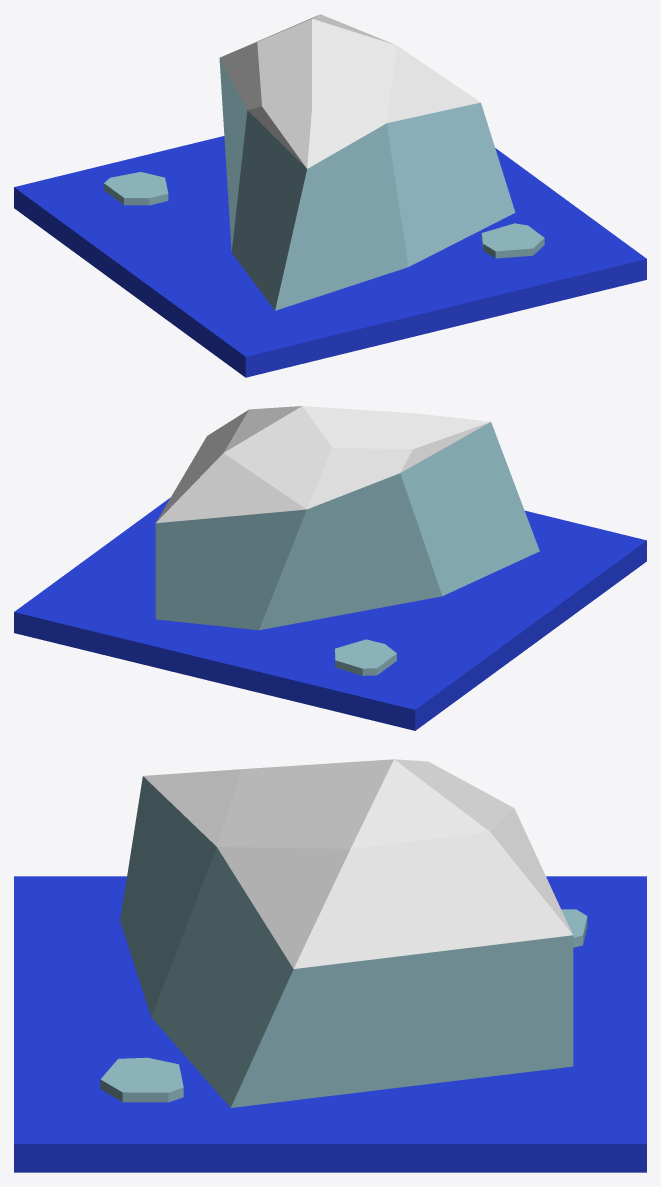
The model's file is artique.glb.
3 renders of one model, top to bottom at view 1: azimuth 30°, elevation 25°; view 2: azimuth 150°, elevation 25°; view 3: azimuth 270°, elevation 25°, orthographic. The views are drawn at different scales.
Parts seen in each view (by area): view 1: Iceberg, Cube, Cube.001, Cube.002; view 2: Iceberg, Cube, Cube.001; view 3: Iceberg, Cube, Cube.002, Cube.001.
Boxes of the visible parts, x1,y1,x2,y2 form: Iceberg: [219, 14, 515, 310]; Cube: [14, 136, 646, 377]; Cube.001: [104, 172, 168, 205]; Cube.002: [481, 223, 544, 258]; Iceberg: [155, 406, 539, 630]; Cube: [14, 497, 646, 730]; Cube.001: [335, 639, 396, 675]; Iceberg: [120, 759, 573, 1107]; Cube: [14, 876, 646, 1172]; Cube.002: [100, 1057, 183, 1102]; Cube.001: [561, 909, 587, 947].
Size of the model in its own units: 10 by 4.93 by 10.
